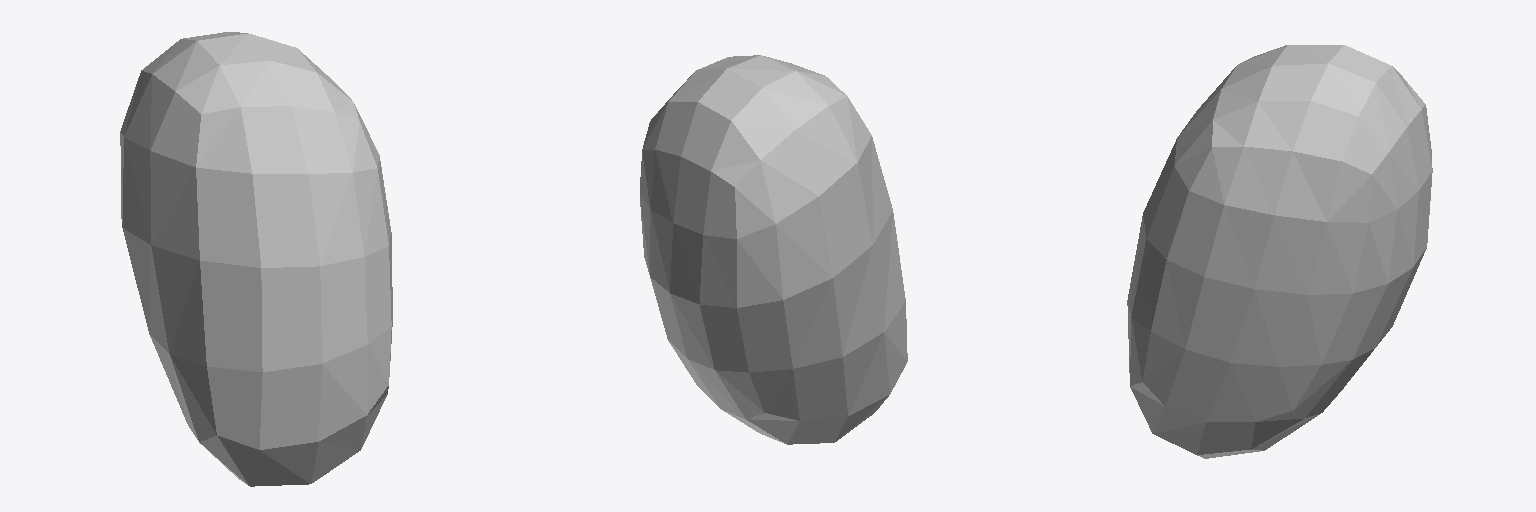
Rendered from Connective.bursa.Omentalis.012.obj.
The picture shows the model from 3 angles: view 1: azimuth 30°, elevation 25°; view 2: azimuth 150°, elevation 25°; view 3: azimuth 270°, elevation 25°; orthographic projection.
Parts seen in each view (by area): view 1: Connective:bursa:Omentalis.012_bursa.011; view 2: Connective:bursa:Omentalis.012_bursa.011; view 3: Connective:bursa:Omentalis.012_bursa.011.
Boxes of the visible parts, x1=… form: Connective:bursa:Omentalis.012_bursa.011: x1=120, y1=32, x2=392, y2=486; Connective:bursa:Omentalis.012_bursa.011: x1=640, y1=55, x2=907, y2=444; Connective:bursa:Omentalis.012_bursa.011: x1=1127, y1=45, x2=1432, y2=458.
Size of the model in its own units: 0.0194 by 0.0356 by 0.0245.